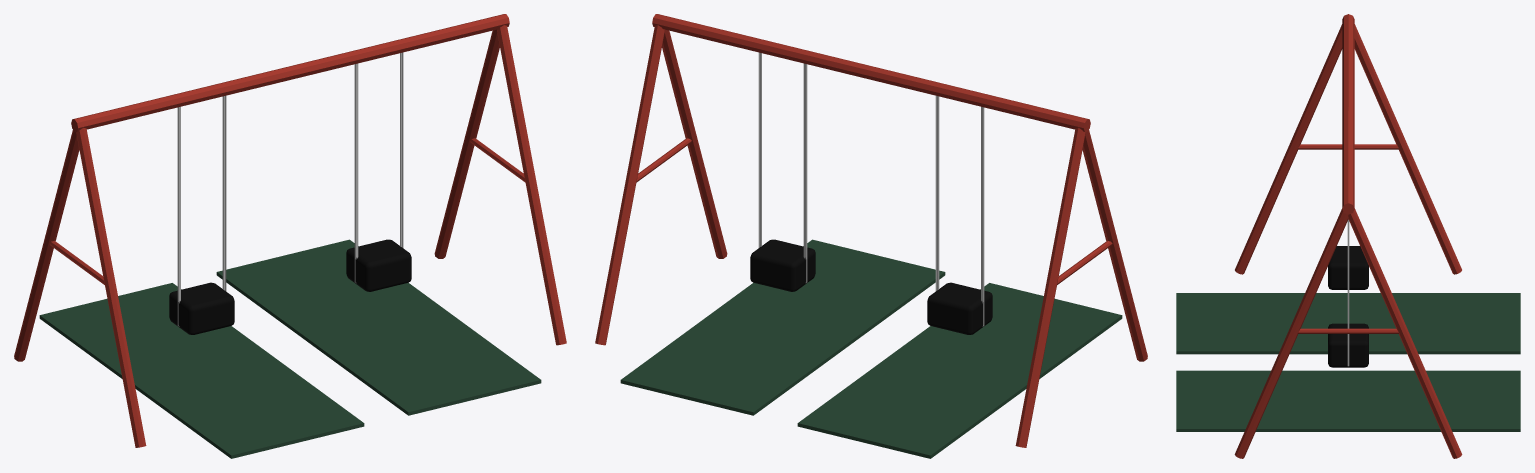
Rendered from sport.play.swings_cradle.glb.
3 views of the same model, side by side, from view 1: azimuth 30°, elevation 25°; view 2: azimuth 150°, elevation 25°; view 3: azimuth 270°, elevation 25° (orthographic). The views are drawn at different scales.
Parts seen in each view (by area): view 1: main__paint_243, main__paint_a32, main__rubber, main__steel_bbb; view 2: main__paint_243, main__paint_a32, main__rubber, main__steel_bbb; view 3: main__paint_243, main__paint_a32, main__rubber, main__steel_bbb.
Boxes of the visible parts, box(x1,y1,x2,y2) form: main__paint_243: box(39, 239, 541, 458); main__paint_a32: box(14, 14, 566, 447); main__rubber: box(169, 239, 411, 334); main__steel_bbb: box(177, 52, 403, 326); main__paint_243: box(620, 239, 1122, 458); main__paint_a32: box(595, 14, 1147, 447); main__rubber: box(750, 239, 992, 334); main__steel_bbb: box(758, 52, 984, 326); main__paint_243: box(1176, 293, 1520, 431); main__paint_a32: box(1234, 14, 1462, 458); main__rubber: box(1328, 246, 1368, 367); main__steel_bbb: box(1347, 219, 1349, 366).
Bounding box in the file's own units: 3.9 × 2.47 × 3.
